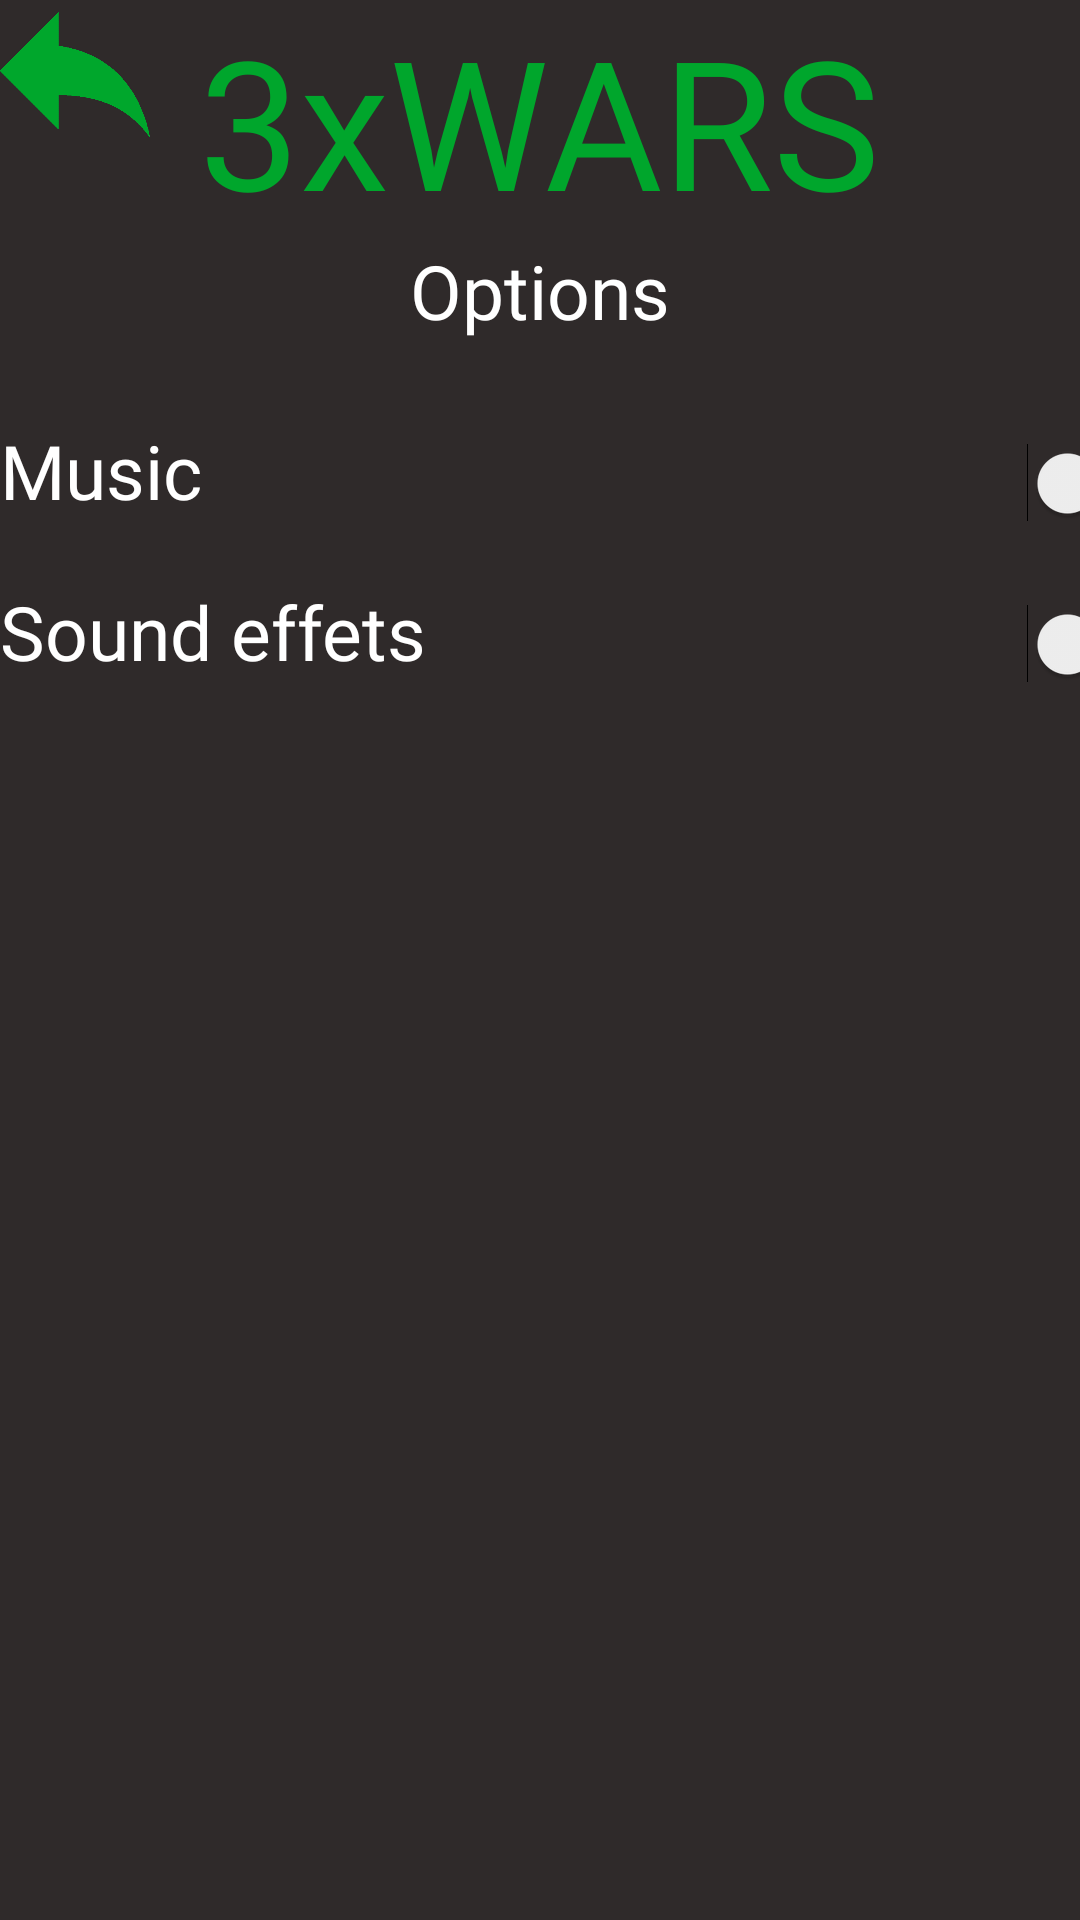

Icons on this 1080px×1920px Android screen, each with the point to tap as (x,y):
flecha: (75,74)
